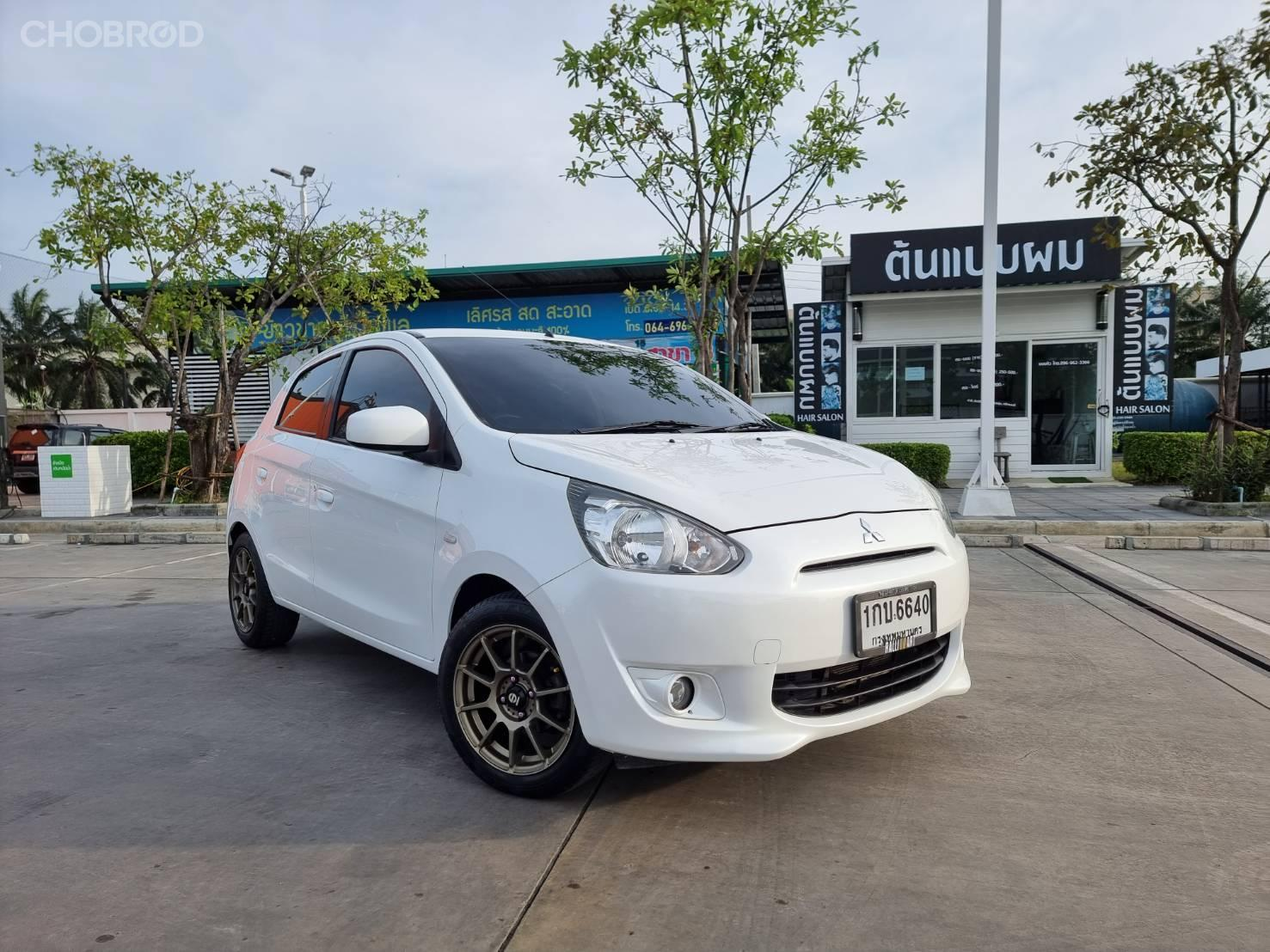license-plate: (850, 580, 941, 654)
